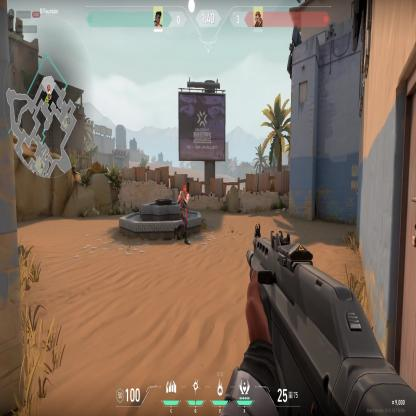enemy: (175, 184, 191, 247)
